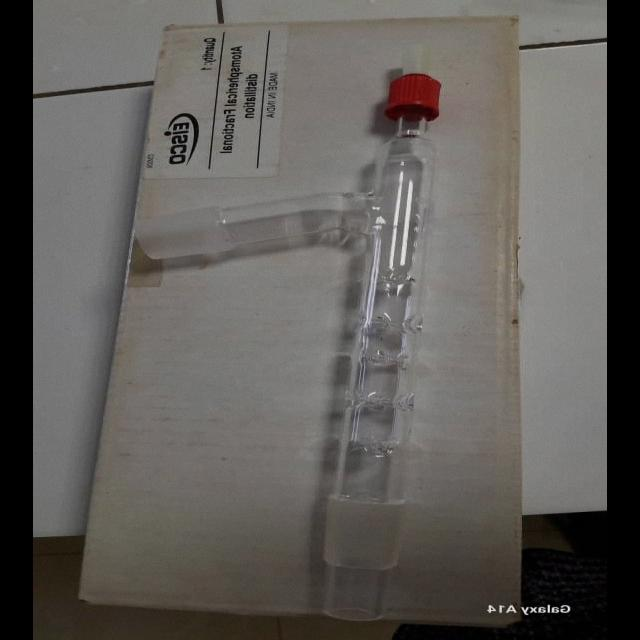Atmospherical Fractional Distillation: (131, 50, 465, 626)
